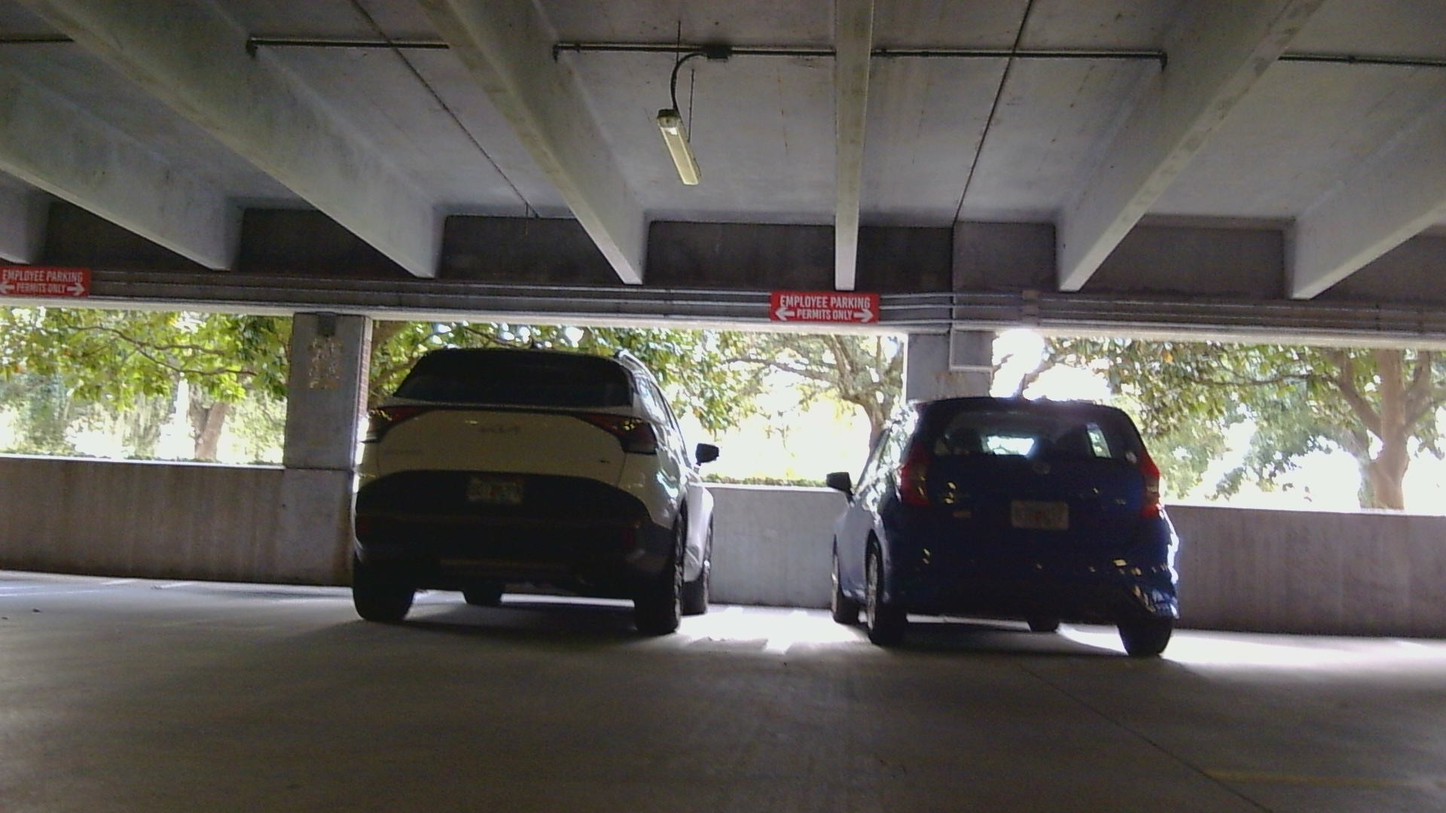empty_spot: (0, 504, 348, 613), (1183, 560, 1446, 655)
occupied_spot: (329, 336, 731, 645), (813, 387, 1182, 648)
